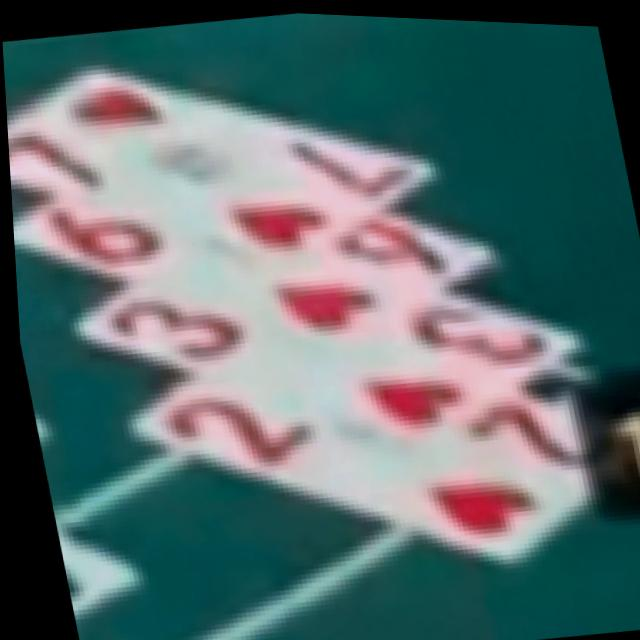Card-2: (126, 351, 640, 561)
Card-3: (74, 279, 575, 438)
Card-6: (11, 193, 491, 351)
Card-7: (6, 66, 434, 263)
